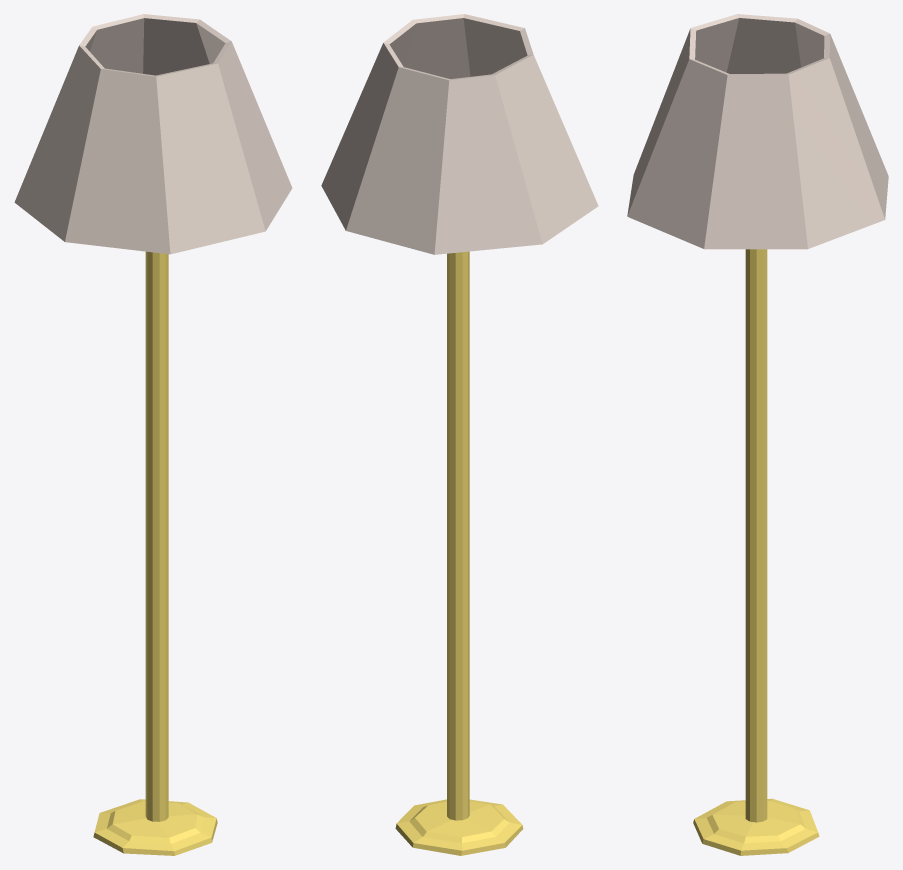
The model's file is Lamp_2_231109.glb.
3 renders of one model, left to right at view 1: azimuth 30°, elevation 25°; view 2: azimuth 150°, elevation 25°; view 3: azimuth 270°, elevation 25°, orthographic.
Parts seen in each view (by area): view 1: Lamp_2; view 2: Lamp_2; view 3: Lamp_2.
Part boxes in pixels (x1,y1,x2,y2): Lamp_2: (14,14,292,855); Lamp_2: (321,14,598,855); Lamp_2: (627,14,888,855).
Bounding box in the file's own units: 0.8571 × 2.82 × 0.8523.
Materials: 1 (1 with a texture image).
